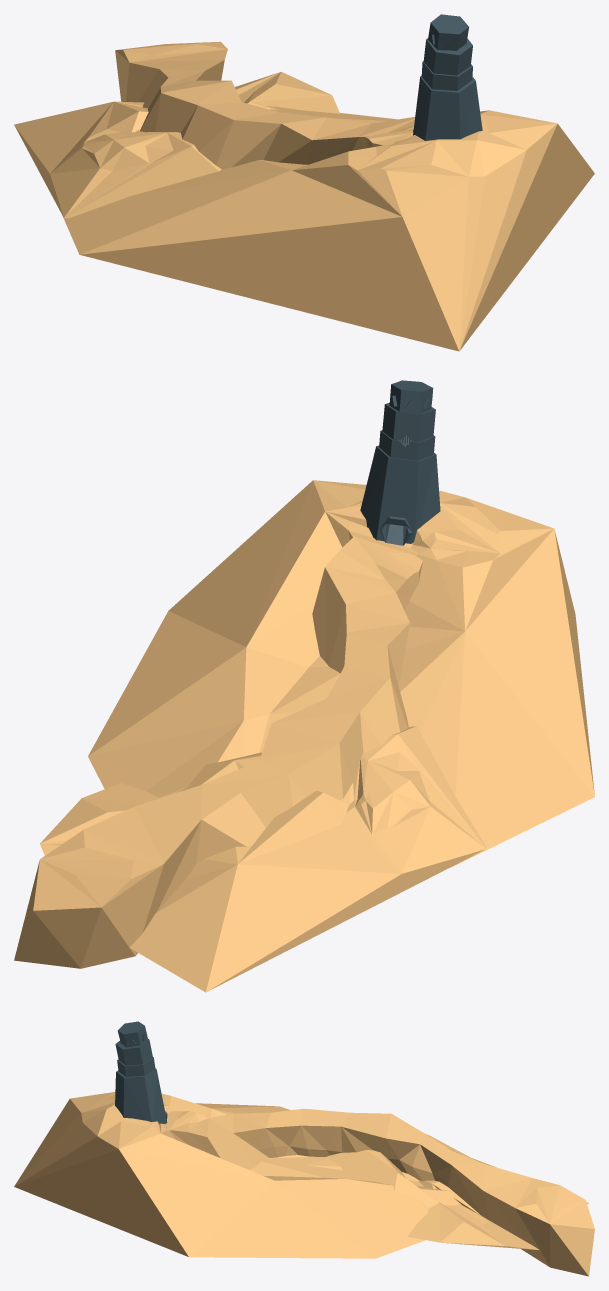
The picture shows the model from 3 angles, top to bottom: view 1: azimuth 30°, elevation 25°; view 2: azimuth 150°, elevation 25°; view 3: azimuth 270°, elevation 25°; orthographic projection. The views are drawn at different scales.
Parts seen in each view (by area): view 1: mesh_295543811, group_2123491377, mesh_1465057351, group_1569555808, group_1248911004, group_762080226, group_1046710293; view 2: mesh_295543811, group_2123491377, mesh_1465057351, group_1569555808, group_1248911004, group_762080226, group_1046710293; view 3: mesh_295543811, group_2123491377, mesh_1465057351, group_1569555808, group_1248911004, group_762080226, group_1046710293.
Part boxes in pixels (left/top/right/bottom): mesh_295543811: left=63, top=106, right=594, bottom=351; group_2123491377: left=115, top=41, right=414, bottom=169; mesh_1465057351: left=14, top=71, right=339, bottom=218; group_1569555808: left=413, top=76, right=482, bottom=140; group_1248911004: left=423, top=38, right=472, bottom=75; group_762080226: left=428, top=14, right=468, bottom=51; group_1046710293: left=421, top=61, right=472, bottom=90; mesh_295543811: left=88, top=480, right=594, bottom=867; group_2123491377: left=14, top=536, right=422, bottom=968; mesh_1465057351: left=40, top=726, right=486, bottom=992; group_1569555808: left=360, top=443, right=440, bottom=543; group_1248911004: left=382, top=403, right=435, bottom=442; group_762080226: left=389, top=380, right=433, bottom=413; group_1046710293: left=379, top=430, right=435, bottom=460; mesh_295543811: left=14, top=1092, right=461, bottom=1258; group_2123491377: left=168, top=1108, right=594, bottom=1276; mesh_1465057351: left=326, top=1133, right=588, bottom=1250; group_1569555808: left=115, top=1068, right=167, bottom=1124; group_1248911004: left=115, top=1039, right=152, bottom=1065; group_762080226: left=117, top=1021, right=147, bottom=1047; group_1046710293: left=117, top=1057, right=155, bottom=1076.
Bounding box in the file's own units: 459 × 306 × 695.
